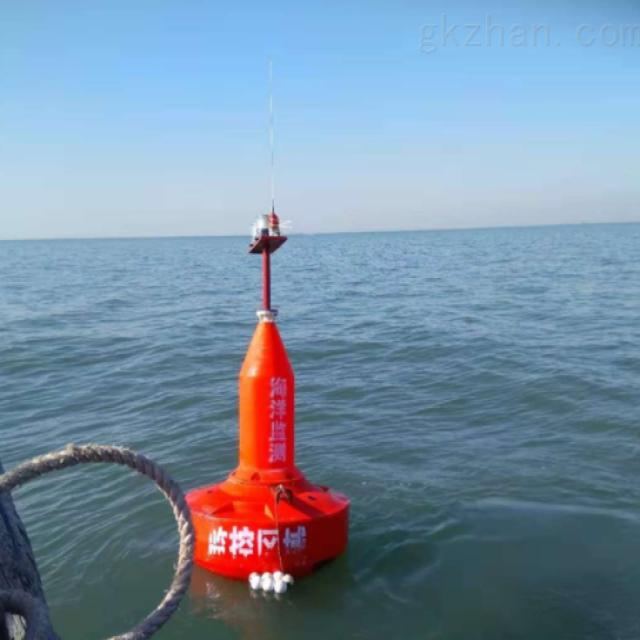buoy: (183, 210, 353, 586)
